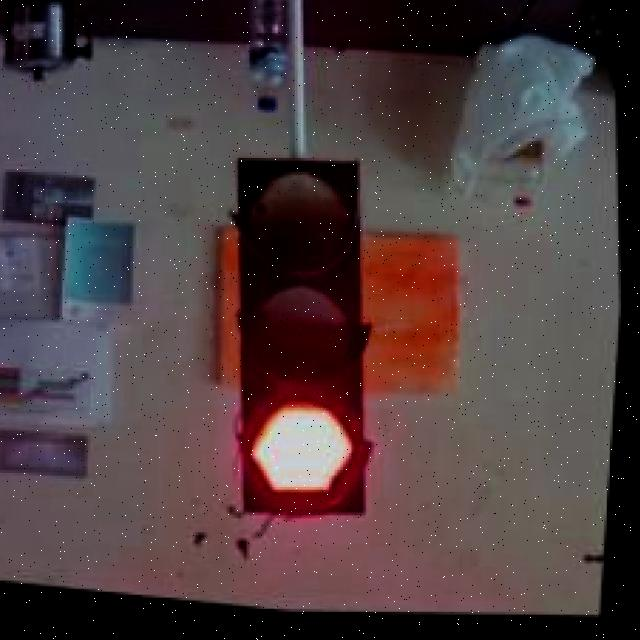Lampu Merah: (218, 159, 394, 531)
